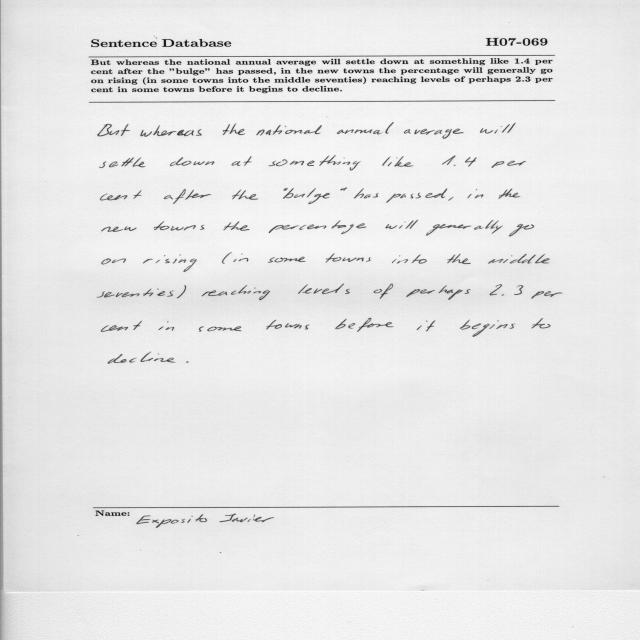word: (269, 220, 367, 234), (269, 156, 360, 171), (426, 220, 503, 236), (202, 285, 270, 300), (406, 285, 471, 300), (143, 254, 197, 272), (460, 320, 515, 337), (387, 188, 448, 203), (335, 318, 394, 332), (283, 188, 330, 204), (140, 125, 202, 137), (108, 352, 175, 363), (256, 125, 322, 136), (164, 189, 211, 204), (97, 289, 174, 298), (337, 123, 394, 135), (488, 254, 550, 264), (404, 129, 464, 139), (298, 284, 350, 294), (154, 221, 204, 231), (100, 157, 145, 168), (101, 321, 142, 332), (326, 253, 371, 263), (266, 320, 310, 330), (101, 190, 142, 200), (490, 284, 524, 296), (97, 124, 130, 136), (480, 123, 516, 134), (170, 157, 214, 166), (442, 156, 477, 167), (382, 156, 414, 167), (392, 255, 427, 264), (509, 224, 534, 236), (386, 220, 419, 229), (374, 284, 393, 299), (232, 190, 258, 200), (224, 221, 250, 231), (532, 291, 563, 299), (223, 124, 245, 135), (354, 189, 378, 199), (447, 254, 471, 264), (492, 161, 526, 168), (268, 257, 306, 263), (531, 318, 551, 329), (199, 327, 242, 332), (231, 156, 252, 166), (499, 189, 520, 199), (102, 226, 137, 232), (417, 320, 436, 331), (102, 259, 126, 265), (468, 189, 483, 198), (159, 321, 174, 330), (234, 254, 249, 262), (177, 285, 186, 298), (222, 253, 232, 264), (340, 188, 347, 191), (449, 197, 454, 201), (283, 188, 288, 191), (186, 361, 189, 363)
